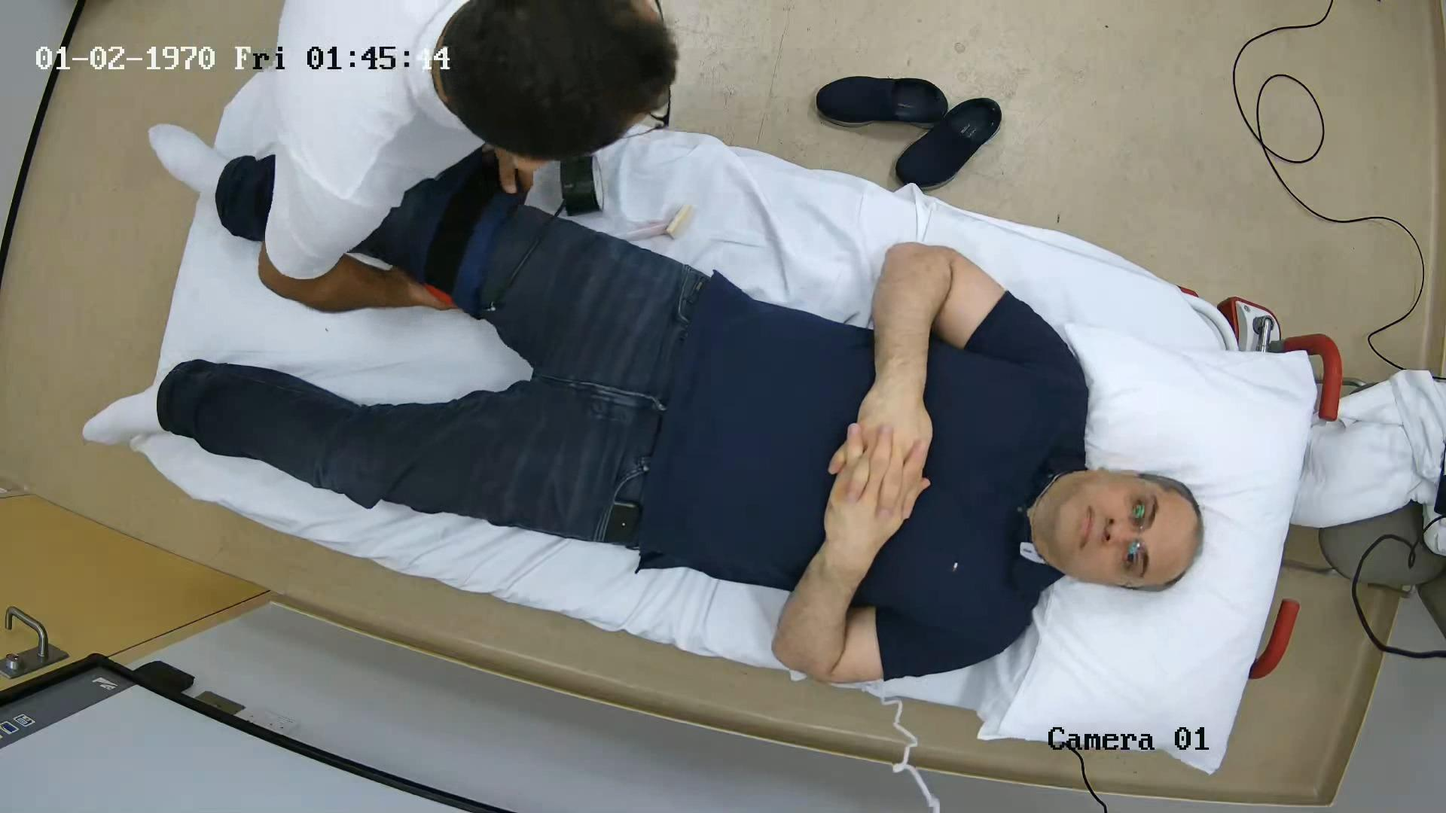bed: (134, 61, 1341, 772)
patient: (157, 155, 1201, 682)
prepstick: (628, 205, 693, 241)
tourniquet: (425, 151, 517, 318)
